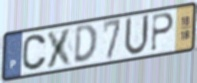7: (102, 17, 122, 62)
C: (21, 33, 48, 72)
D: (72, 23, 99, 65)
P: (150, 11, 175, 53)
U: (123, 13, 151, 58)
X: (45, 26, 75, 71)
